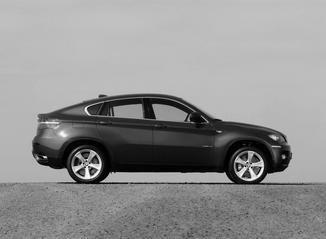car: (31, 89, 296, 187)
